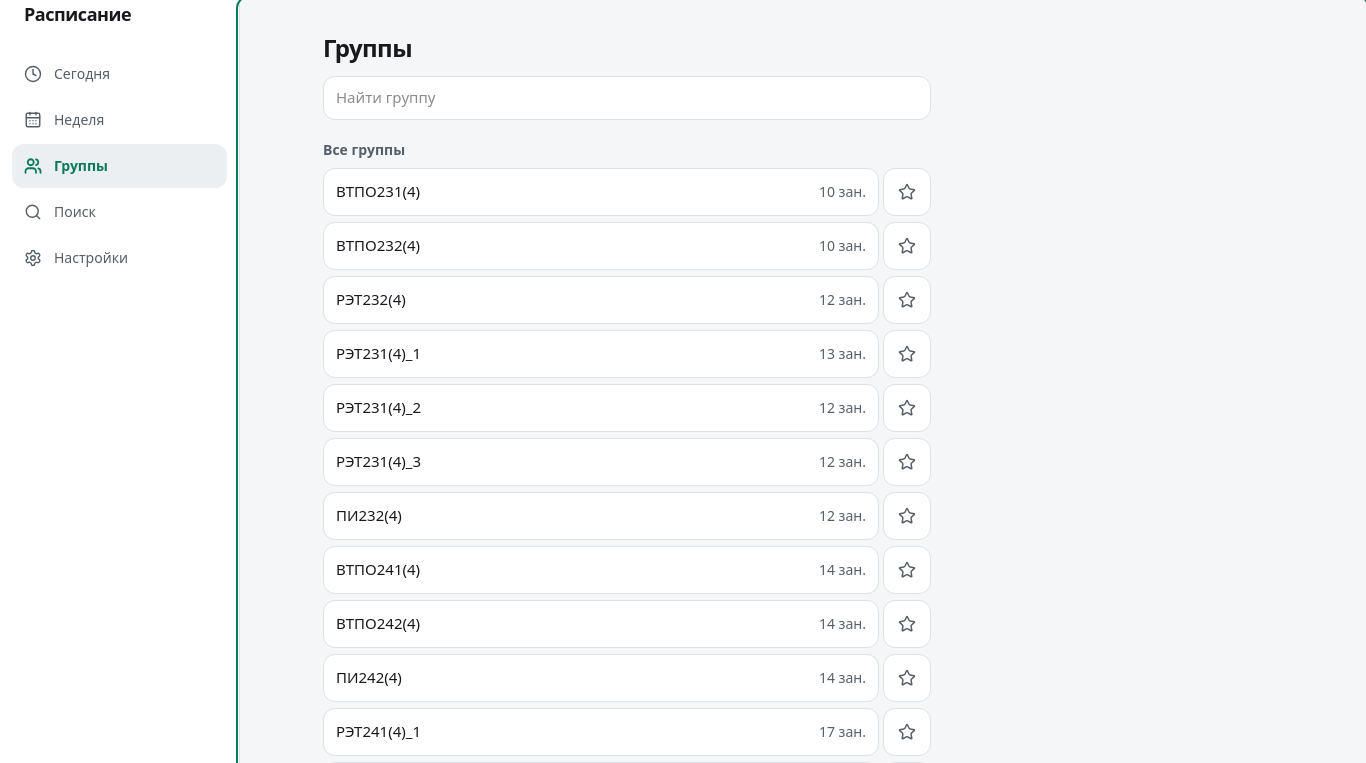
Test case: app (real dataset) › selecting a group persists it and shows the live "now" lesson
The image size is (1366, 763).
Step 1. Click the button "ВТПО231(4) 10 зан." → (378, 191), box [323,168,879,216]
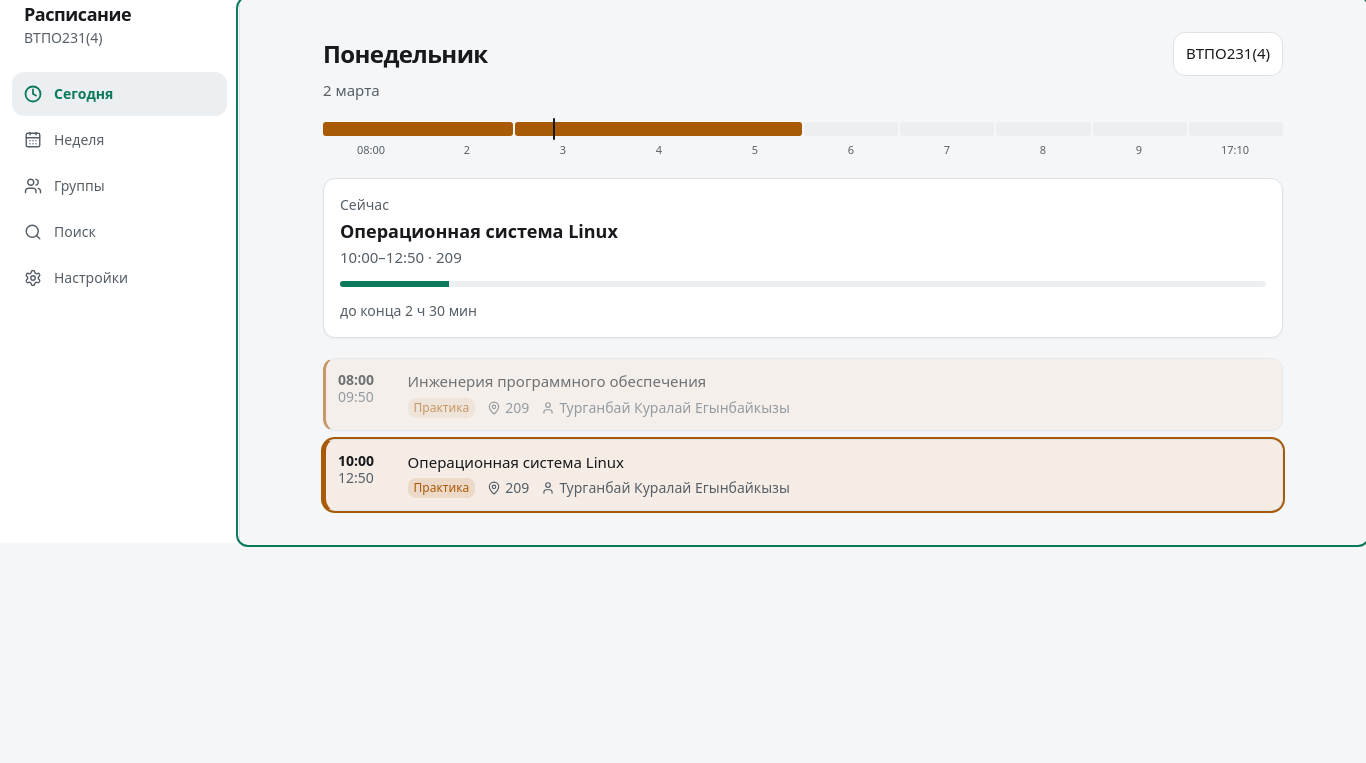
Now the text "Понедельник" is shown, box [323,38,488,70]
Now the text "Сейчас" is shown, box [340,195,389,214]
Now the text "Операционная система Linux" is shown, box [340,219,618,243]
